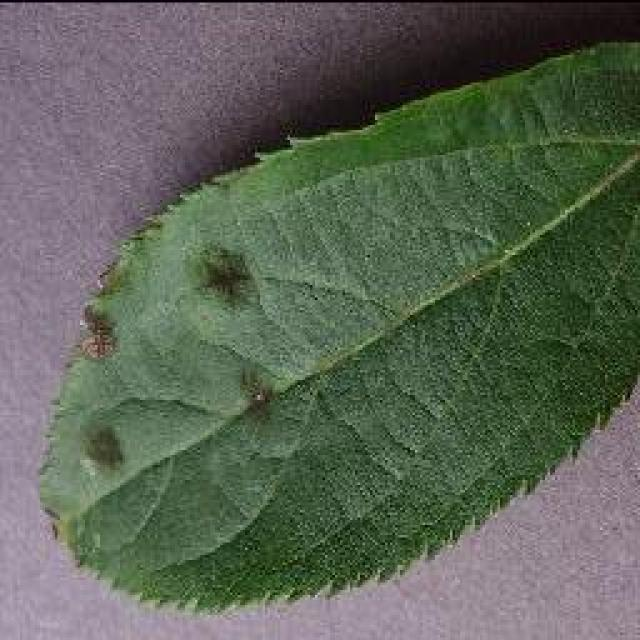apple scab disease: (35, 35, 637, 617)
